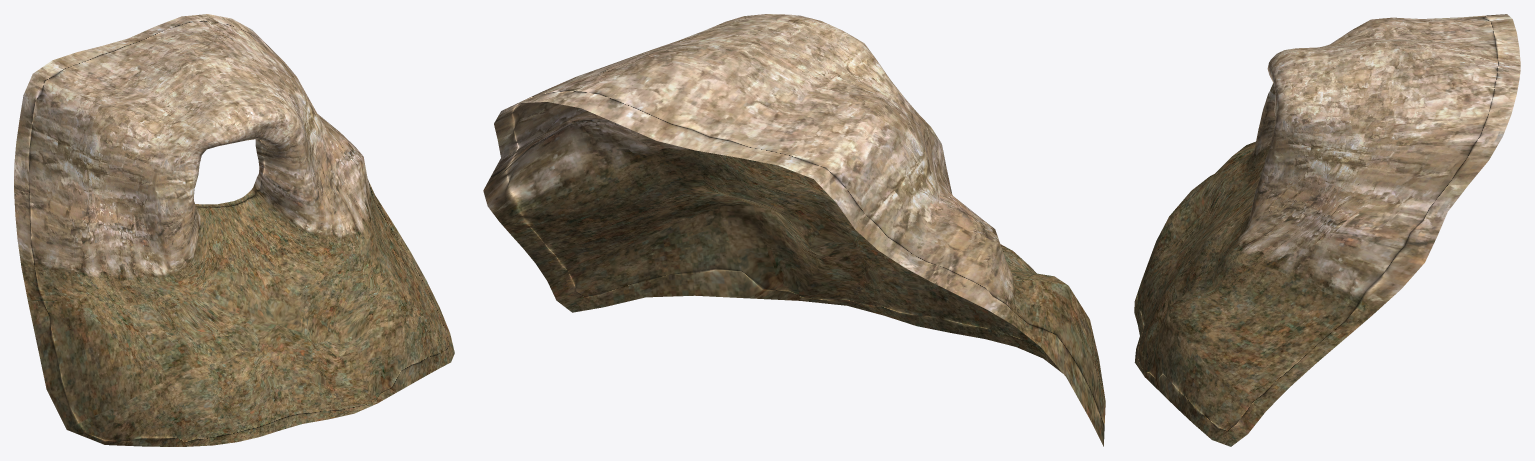
Rendered from thm_all_cave_s03_mirror_r0_mesh_l0.fbx.
3 renders of one model, left to right at view 1: azimuth 30°, elevation 25°; view 2: azimuth 150°, elevation 25°; view 3: azimuth 270°, elevation 25°, orthographic. The views are drawn at different scales.
Visible parts, largest first — view 1: mesh_node; view 2: mesh_node; view 3: mesh_node.
Boxes of the visible parts, <box> form: mesh_node: <box>14,14,454,446</box>; mesh_node: <box>483,14,1105,446</box>; mesh_node: <box>1134,14,1520,446</box>.
Size of the model in its own units: 48.97 by 34.28 by 39.36.
